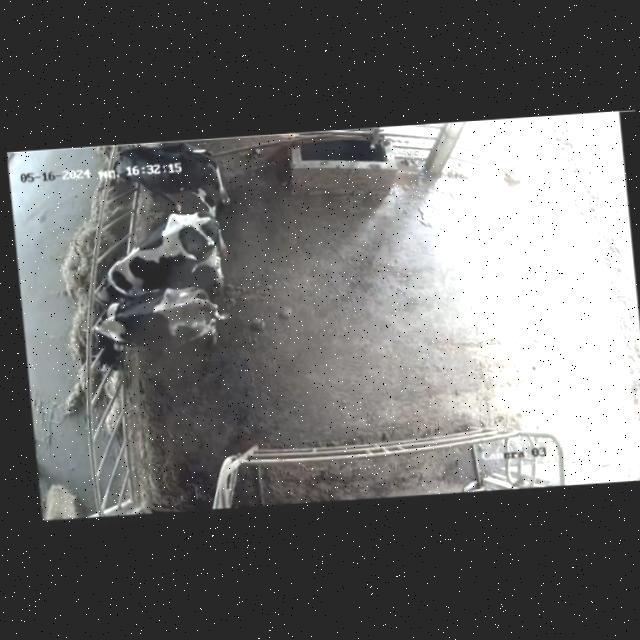eat: (67, 305, 144, 371), (75, 149, 170, 200), (65, 256, 145, 307)
